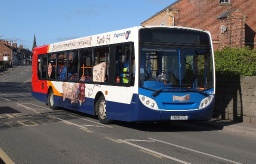bus: (32, 25, 216, 124)
